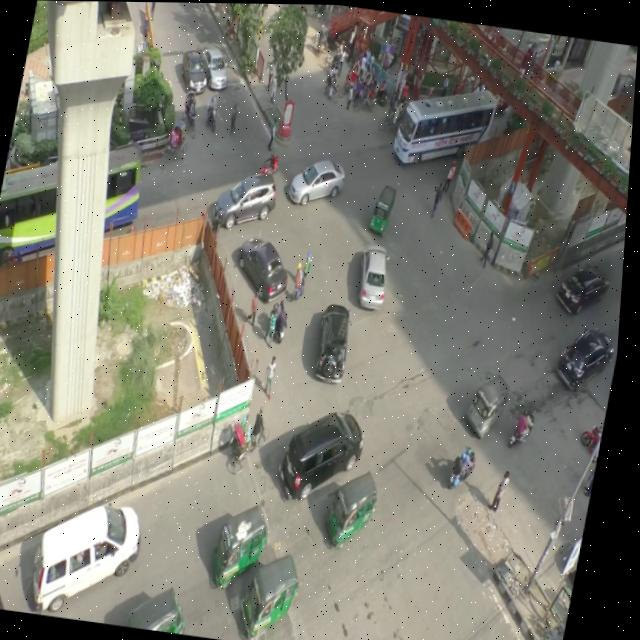cng: (213, 493, 286, 595), (236, 547, 315, 640), (325, 469, 390, 550), (465, 368, 521, 447), (367, 180, 405, 235)
rikshaw: (230, 391, 281, 470), (379, 91, 410, 131), (162, 125, 192, 165), (178, 90, 204, 130), (359, 74, 386, 107), (340, 57, 364, 94), (321, 63, 344, 99), (353, 67, 375, 96), (309, 23, 330, 53), (321, 46, 342, 67)
